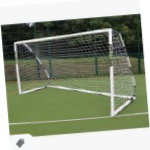goals: (12, 27, 136, 121)
